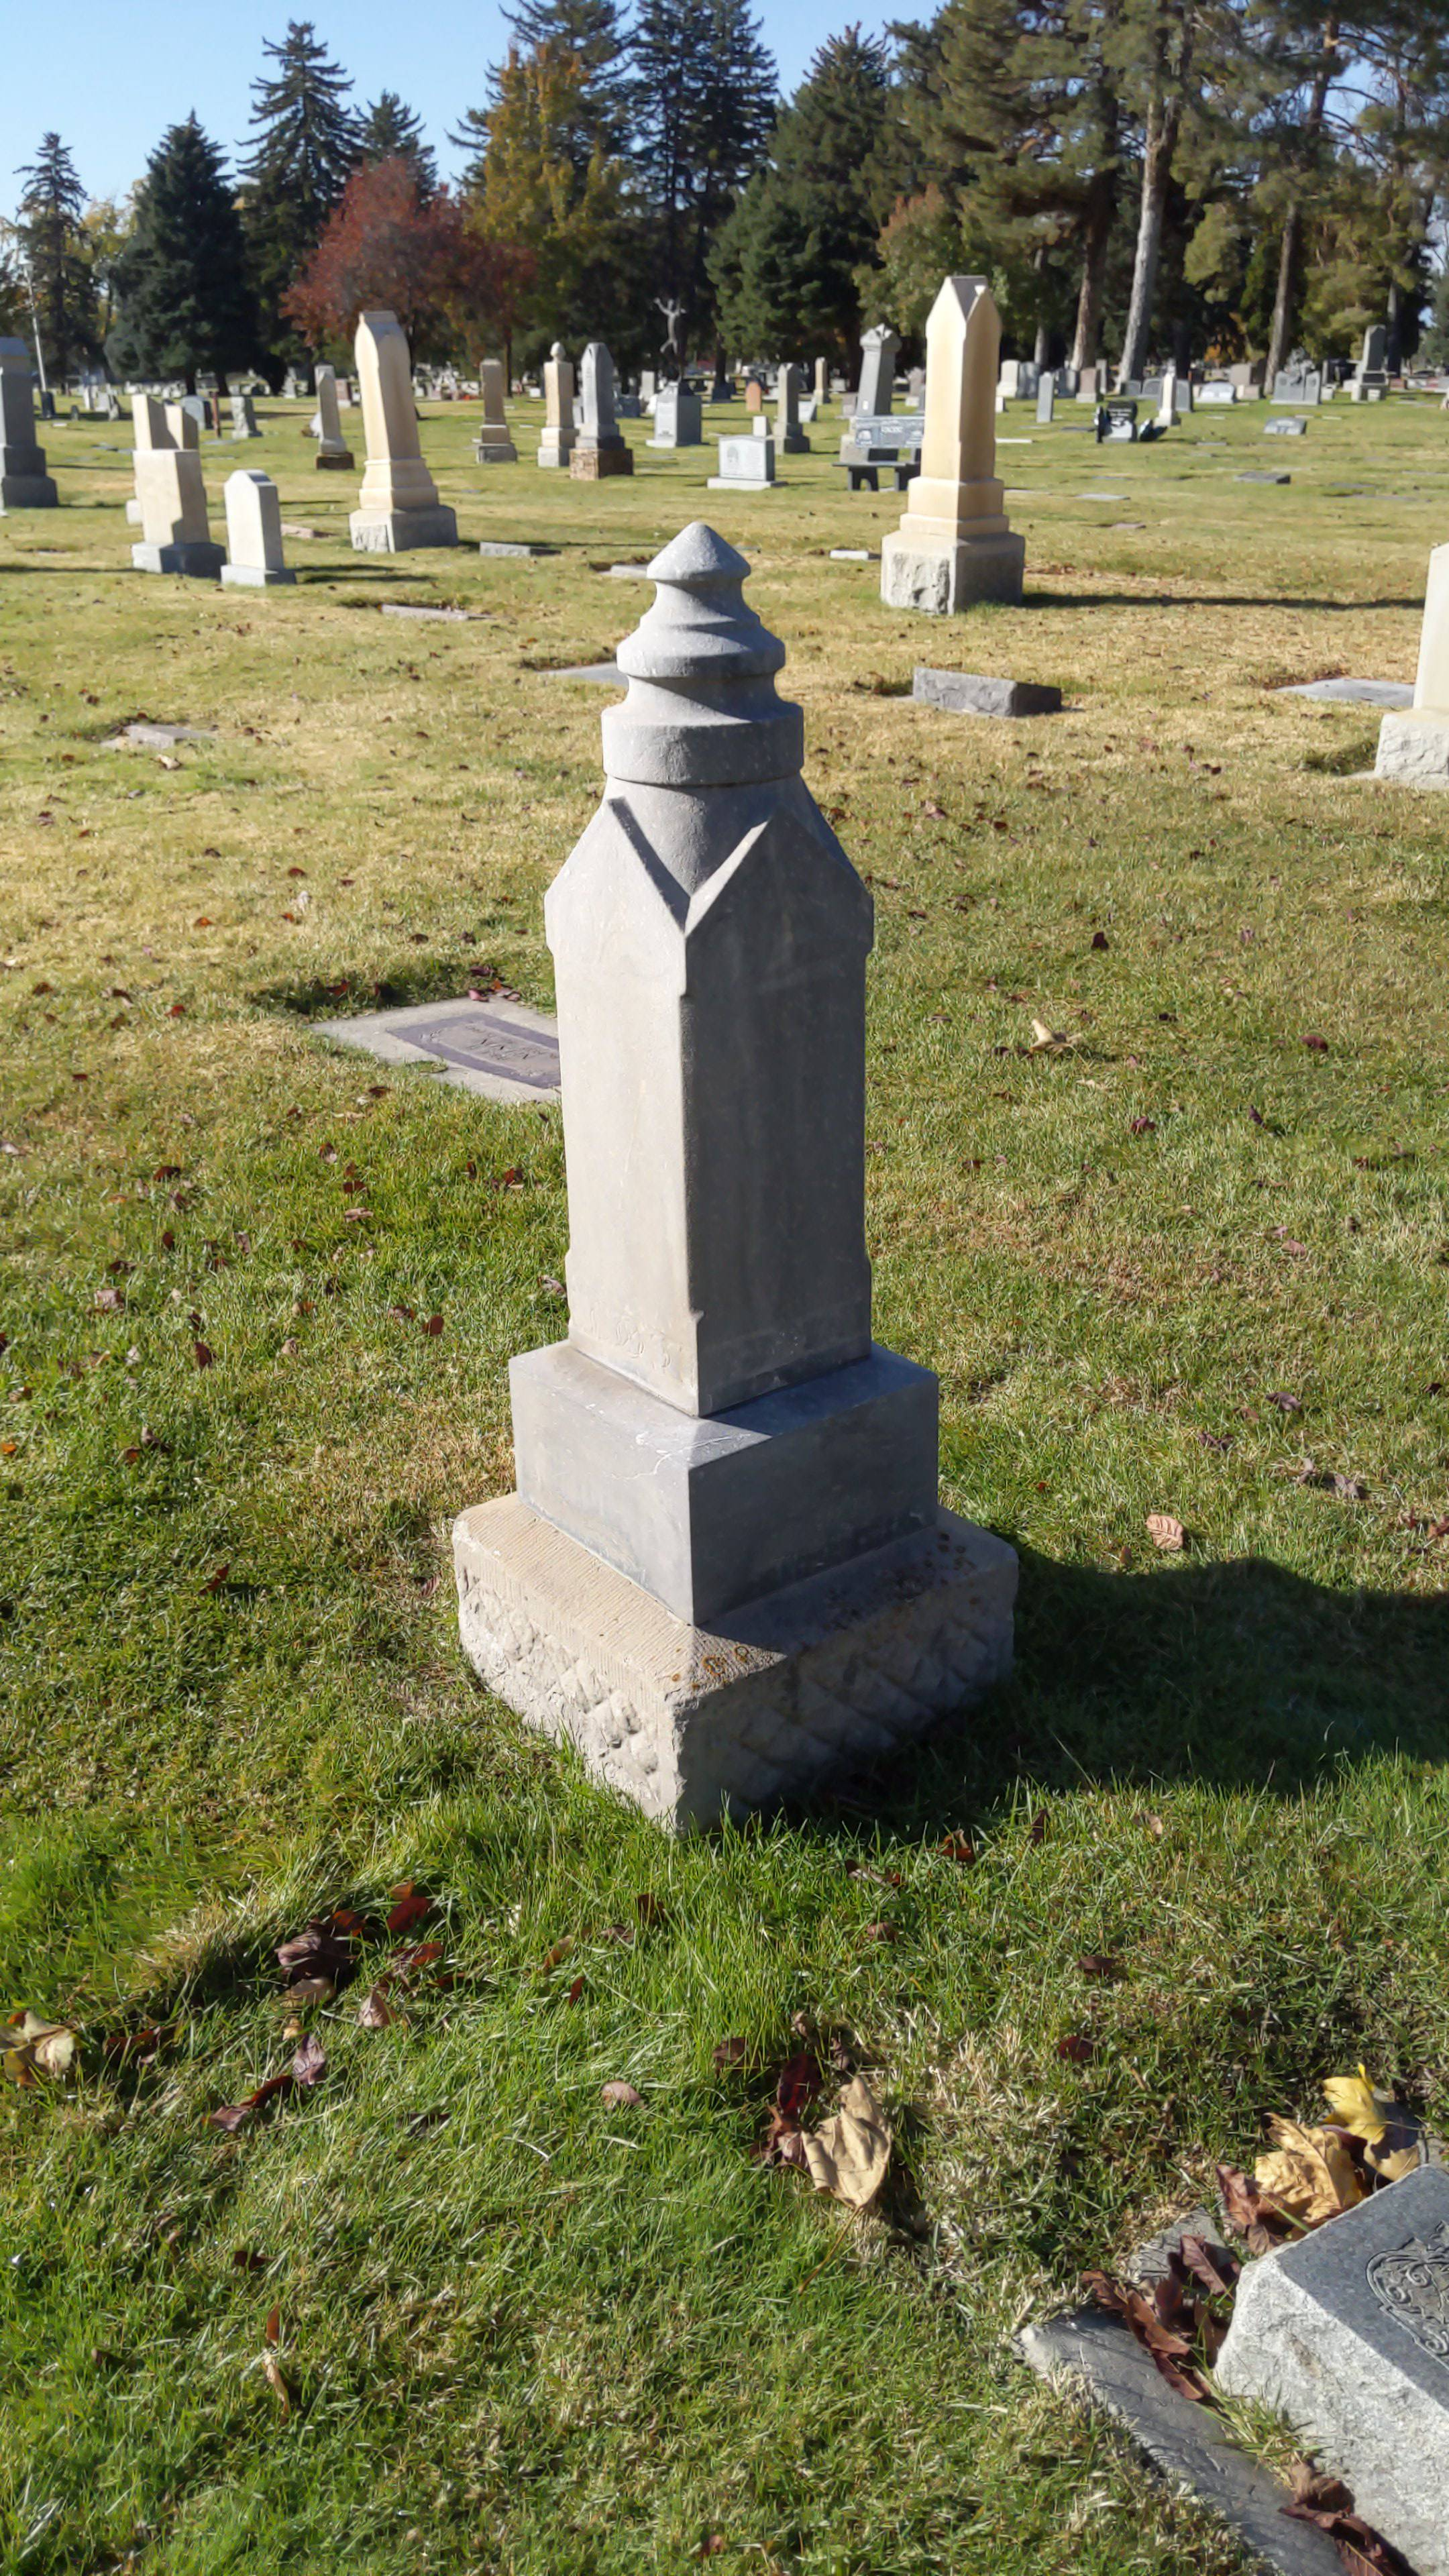obelisk: (515, 536, 936, 1626)
